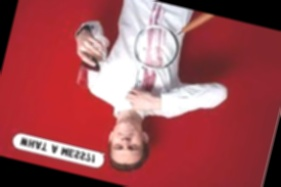wine: (138, 2, 174, 101), (140, 1, 167, 52)
